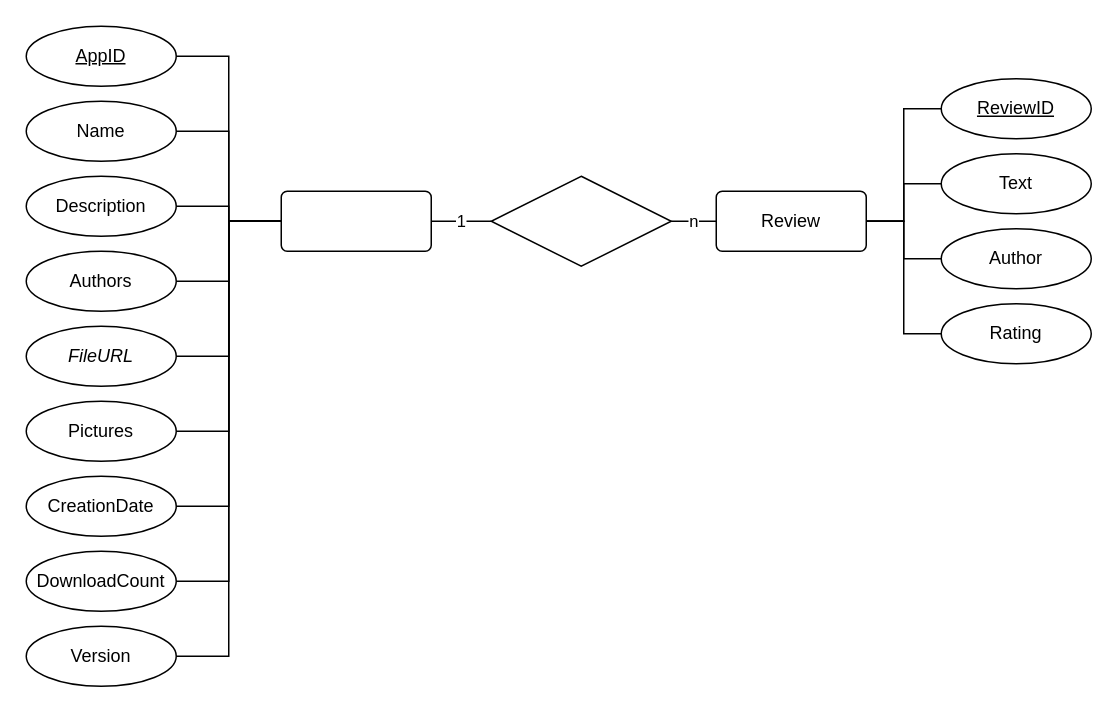
The diagram is 1118 pixels wide and 713 high, and some of its shapes have lost their labels. The centre of each missing label's shape, as x and y in pixels:
"App" goes at [355,220].
"has" goes at [580,220].
